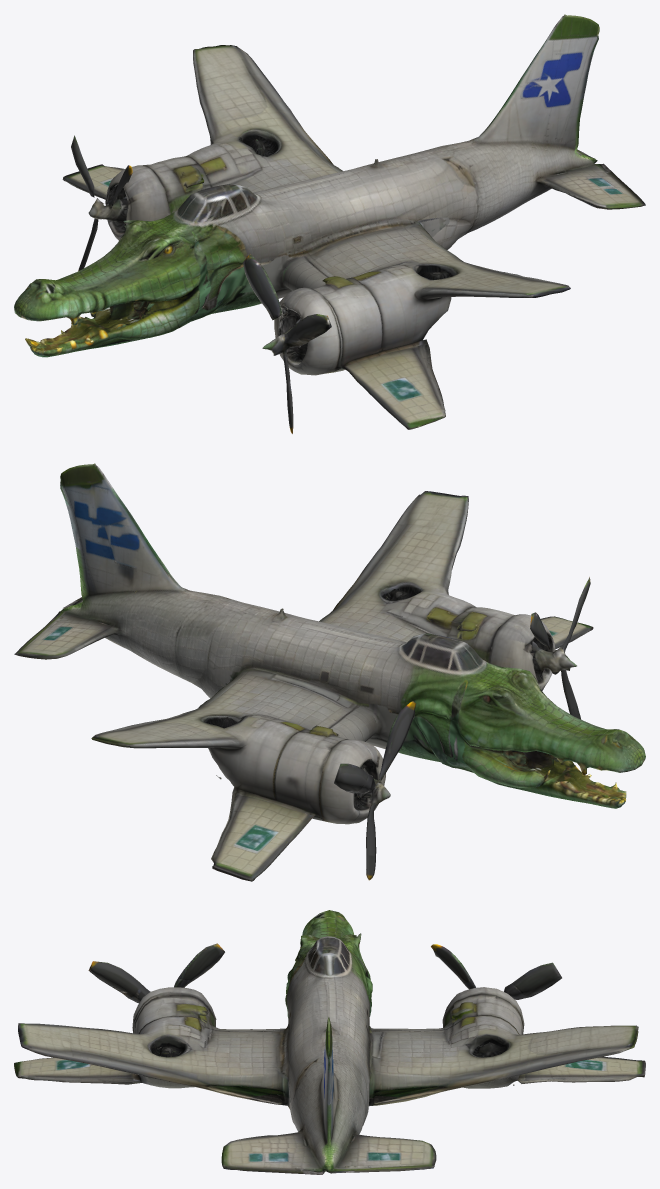
File: bombardiro_crocodilo.glb
The picture shows the model from 3 angles, top to bottom: view 1: azimuth 30°, elevation 25°; view 2: azimuth 150°, elevation 25°; view 3: azimuth 270°, elevation 25°; orthographic projection. The views are drawn at different scales.
Parts seen in each view (by area): view 1: Mesh1_Material.027_0; view 2: Mesh1_Material.027_0; view 3: Mesh1_Material.027_0.
Part boxes in pixels (box(x1,y1,x2,y2)): Mesh1_Material.027_0: box(14, 14, 645, 433); Mesh1_Material.027_0: box(14, 463, 645, 881); Mesh1_Material.027_0: box(14, 910, 645, 1174).
Size of the model in its own units: 1.94 by 0.7917 by 1.99.
Materials: 1 (1 with a texture image).
